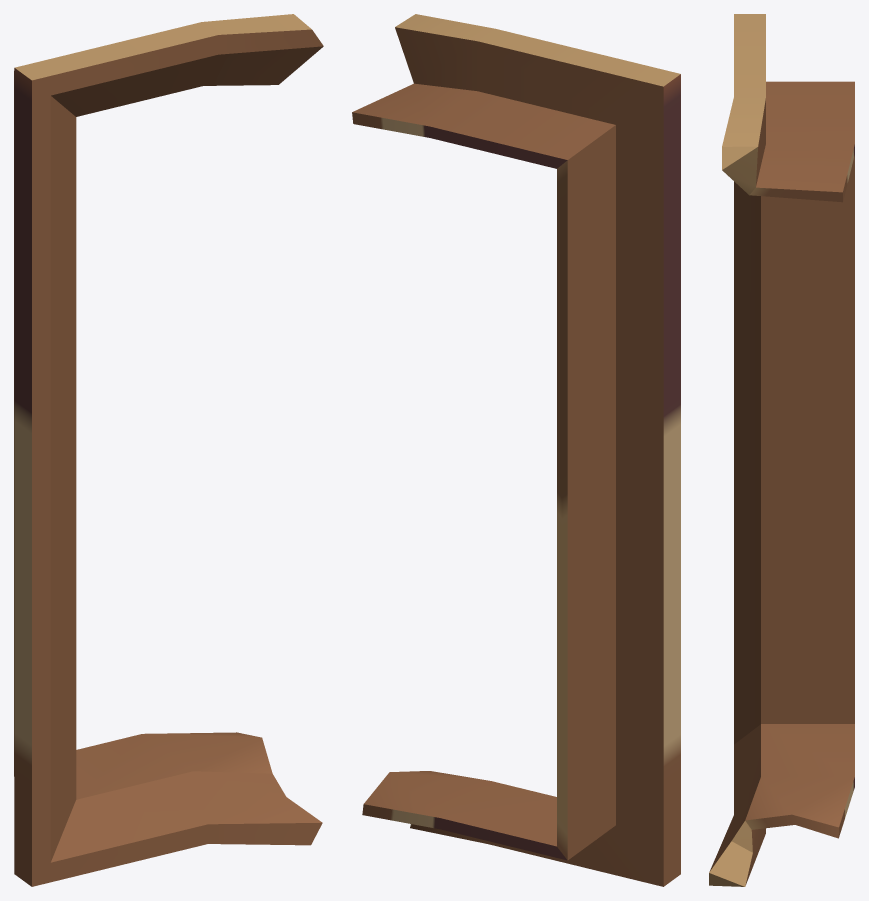
Rendered from DBK_WinSmall_Trim_C_End.fbx.
3 views of the same model, side by side, from view 1: azimuth 30°, elevation 25°; view 2: azimuth 150°, elevation 25°; view 3: azimuth 270°, elevation 25° (orthographic). The views are drawn at different scales.
Parts seen in each view (by area): view 1: DBK_WinSmall_Trim_C_End; view 2: DBK_WinSmall_Trim_C_End; view 3: DBK_WinSmall_Trim_C_End.
Boxes of the visible parts, x1=… form: DBK_WinSmall_Trim_C_End: x1=14, y1=14, x2=323, y2=886; DBK_WinSmall_Trim_C_End: x1=352, y1=14, x2=680, y2=886; DBK_WinSmall_Trim_C_End: x1=709, y1=14, x2=854, y2=886.
Size of the model in its own units: 51.88 by 142 by 24.99.
